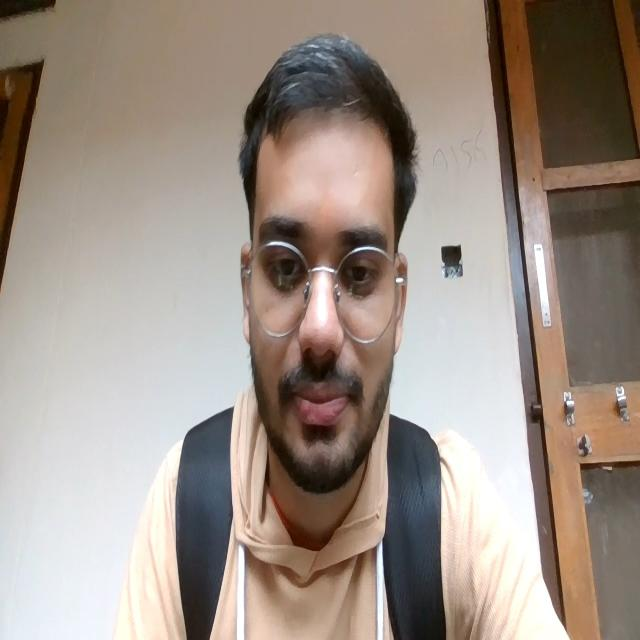awake: (253, 208, 388, 459)
